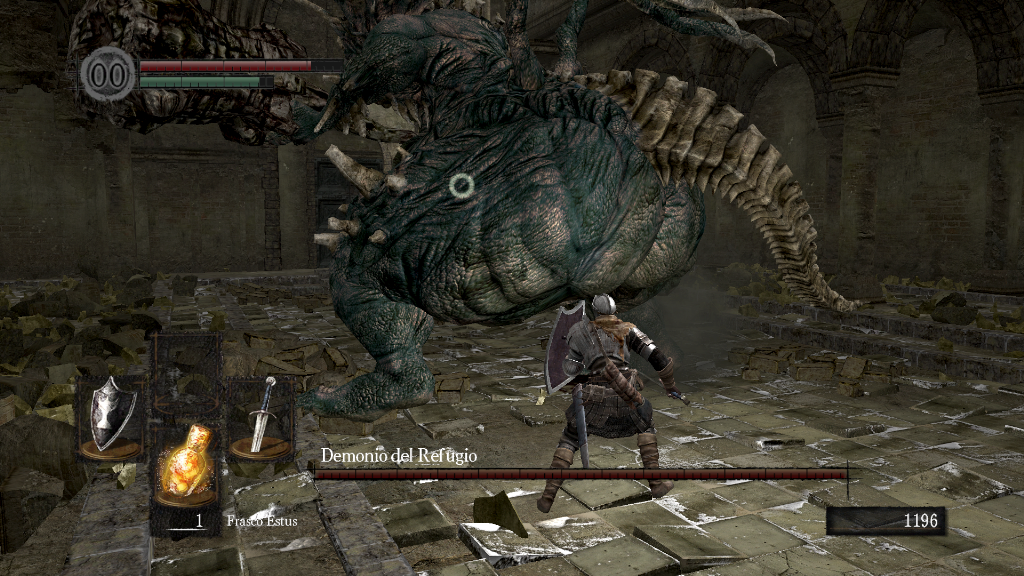asylumDemon: (61, 2, 870, 422)
bossHP: (314, 469, 847, 479)
health: (138, 58, 343, 71)
humanity: (80, 45, 136, 102)
player: (536, 293, 693, 511)
souls: (825, 506, 945, 536)
stamina: (138, 74, 274, 88)
